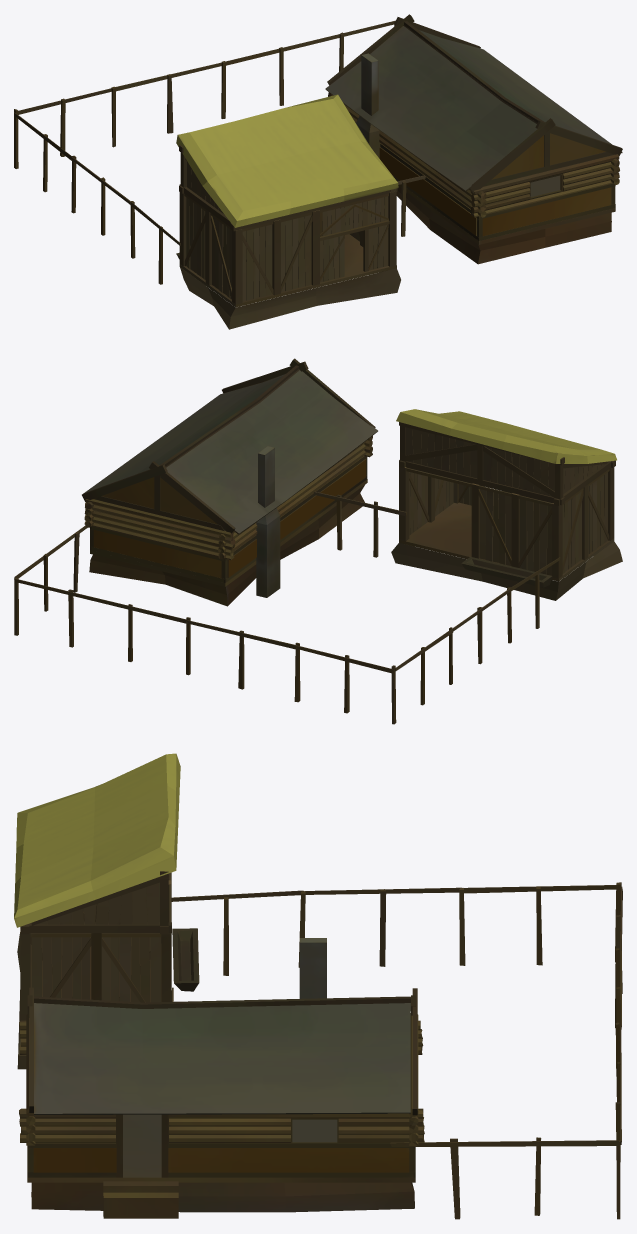
Rendered from farmcabin.fbx.
3 views of the same model, one above another, from view 1: azimuth 30°, elevation 25°; view 2: azimuth 150°, elevation 25°; view 3: azimuth 270°, elevation 25° (orthographic). The views are drawn at different scales.
Parts seen in each view (by area): view 1: FarmCabin, FarmCabinHomeRoof, FarmCabinRoof; view 2: FarmCabin, FarmCabinHomeRoof, FarmCabinRoof; view 3: FarmCabin, FarmCabinHomeRoof, FarmCabinRoof.
Part boxes in pixels (x1,y1,x2,y2): FarmCabin: (14, 20, 619, 329); FarmCabinHomeRoof: (325, 14, 622, 193); FarmCabinRoof: (176, 94, 398, 231); FarmCabin: (14, 436, 622, 724); FarmCabinHomeRoof: (82, 358, 377, 534); FarmCabinRoof: (396, 409, 616, 505); FarmCabin: (17, 872, 622, 1219); FarmCabinHomeRoof: (27, 987, 417, 1115); FarmCabinRoof: (14, 753, 180, 934).
Bounding box in the file's own units: 1148 × 452 × 1103.
